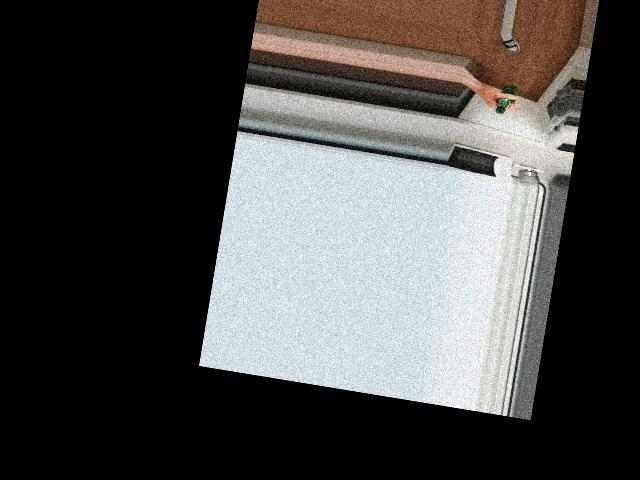beer: (495, 82, 518, 115)
